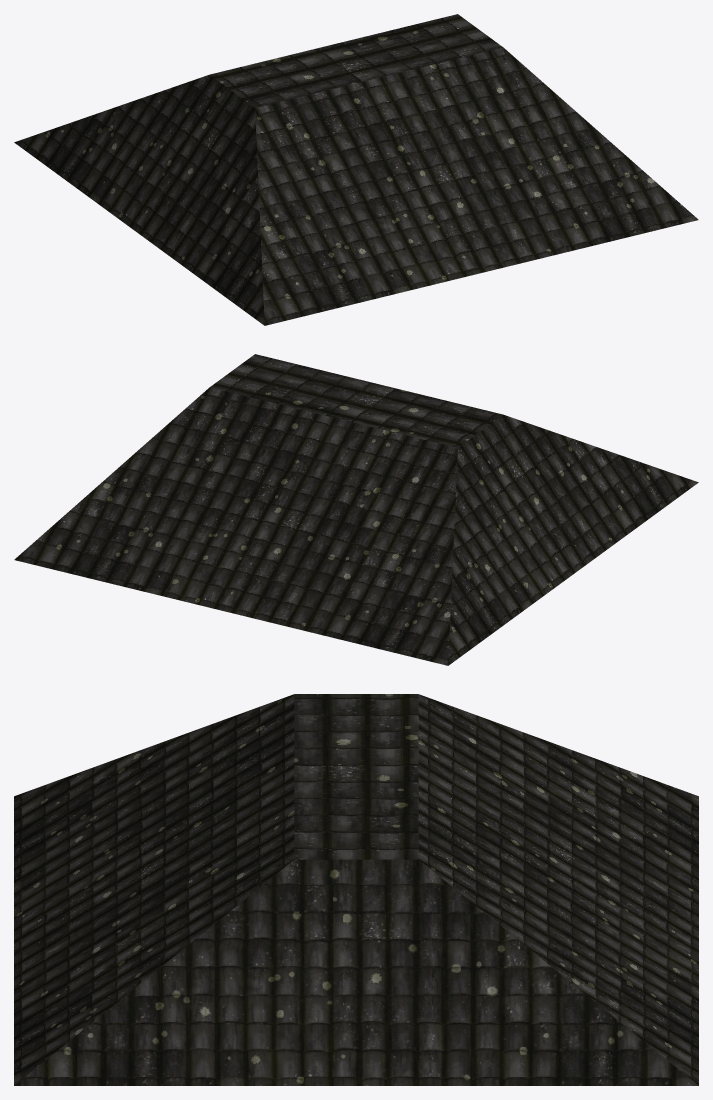
File: roof-square.glb
3 views of the same model, one above another, from view 1: azimuth 30°, elevation 25°; view 2: azimuth 150°, elevation 25°; view 3: azimuth 270°, elevation 25° (orthographic). The views are drawn at different scales.
Visible parts, largest first — view 1: Roof_Square; view 2: Roof_Square; view 3: Roof_Square.
Boxes of the visible parts, x1,y1,x2,y2 form: Roof_Square: (14,14,698,325); Roof_Square: (14,354,698,665); Roof_Square: (14,694,698,1085).
Bounding box in the file's own units: 4.45 × 1.18 × 4.45.
1 material, 1 textured.
